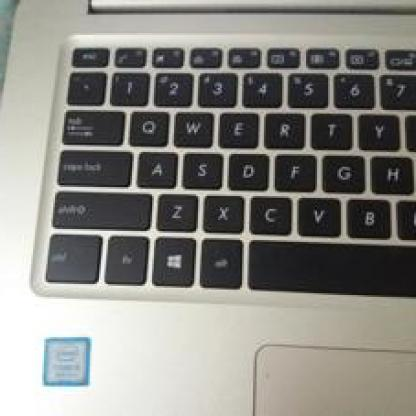keyboard: (23, 33, 412, 319)
